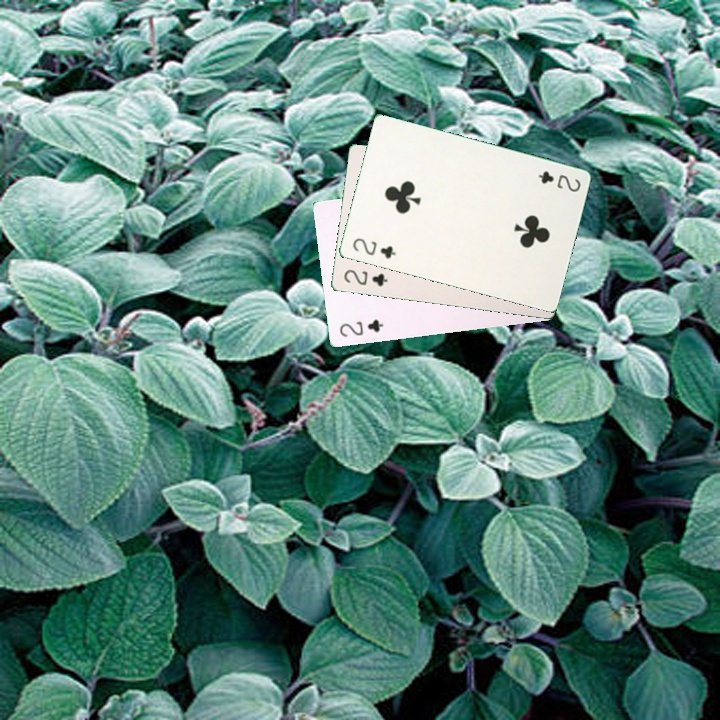2c: (534, 167, 583, 195), (348, 234, 398, 261), (336, 315, 386, 339), (340, 265, 390, 289)
